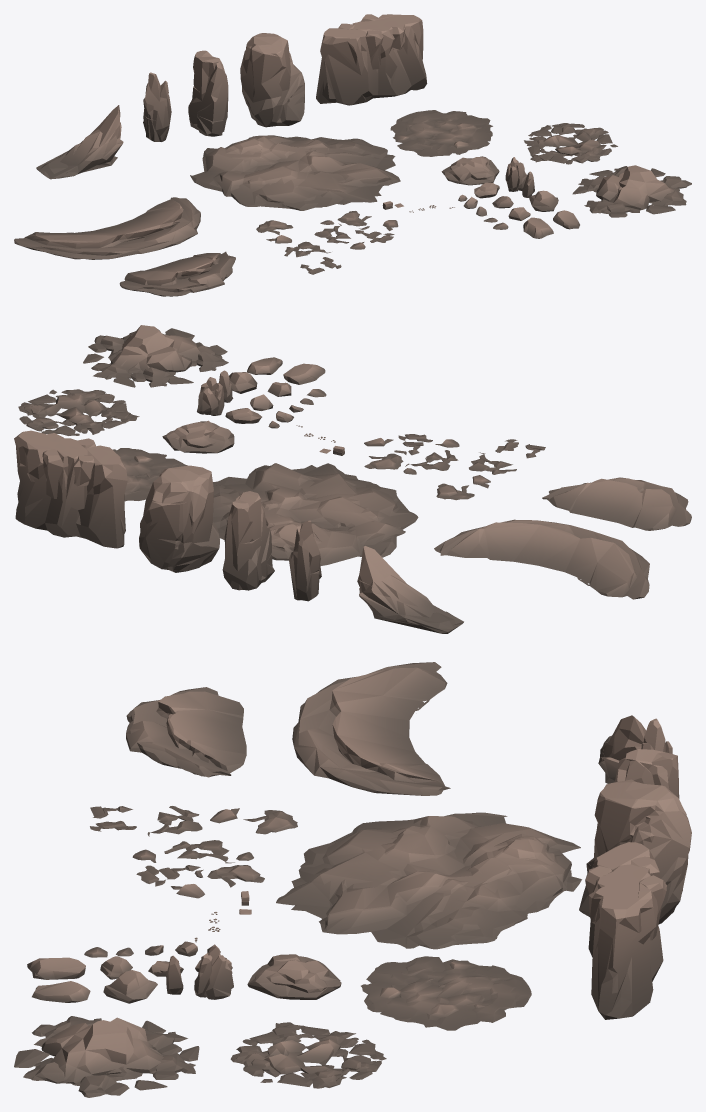
Rendered from LowPolyRocks_Brown.fbx.
3 views of the same model, one above another, from view 1: azimuth 30°, elevation 25°; view 2: azimuth 150°, elevation 25°; view 3: azimuth 270°, elevation 25° (orthographic). The views are drawn at different scales.
Parts seen in each view (by area): view 1: RockFoundation_Brown, Cliff_05_Brown, RockWaveFormation_02_Brown, Cliff_04_Brown, RockFormation_02_Brown, RockFoundation_02_Brown, RockWaveFormation_01_Brown, Cliff_03_Brown, Cliff_01_Brown, RockFormation_03_Brown, Cliff_02_Brown, RockFormation_01_Brown (+4 smaller); view 2: RockFoundation_Brown, Cliff_05_Brown, RockWaveFormation_02_Brown, Cliff_04_Brown, RockFormation_02_Brown, RockWaveFormation_01_Brown, Cliff_01_Brown, Cliff_03_Brown, RockFormation_03_Brown, Cliff_02_Brown, RockFoundation_02_Brown, RockFormation_01_Brown (+6 smaller); view 3: RockFoundation_Brown, RockWaveFormation_02_Brown, Cliff_05_Brown, RockFormation_02_Brown, RockFoundation_02_Brown, RockWaveFormation_01_Brown, Cliff_04_Brown, RockFormation_03_Brown, RockFormation_01_Brown, RockBuried_06_Brown, Cliff_03_Brown, Cliff_01_Brown (+7 smaller).
Part boxes in pixels (x1,y1,x2,y2): RockFoundation_Brown: [190, 135, 400, 210]; Cliff_05_Brown: [316, 14, 427, 105]; RockWaveFormation_02_Brown: [14, 197, 200, 259]; Cliff_04_Brown: [240, 33, 304, 127]; RockFormation_02_Brown: [572, 165, 691, 217]; RockFoundation_02_Brown: [390, 110, 492, 156]; RockWaveFormation_01_Brown: [119, 251, 235, 296]; Cliff_03_Brown: [188, 50, 228, 136]; Cliff_01_Brown: [36, 105, 123, 179]; RockFormation_03_Brown: [524, 123, 617, 164]; Cliff_02_Brown: [143, 72, 171, 141]; RockFormation_01_Brown: [441, 156, 499, 185]; RockFoundation_Brown: [212, 463, 418, 565]; Cliff_05_Brown: [14, 430, 127, 548]; RockWaveFormation_02_Brown: [434, 519, 649, 599]; Cliff_04_Brown: [139, 465, 219, 572]; RockFormation_02_Brown: [83, 325, 228, 387]; RockWaveFormation_01_Brown: [542, 477, 691, 530]; Cliff_01_Brown: [357, 546, 463, 633]; Cliff_03_Brown: [222, 491, 274, 590]; RockFormation_03_Brown: [18, 389, 139, 435]; Cliff_02_Brown: [289, 520, 321, 601]; RockFoundation_02_Brown: [113, 448, 187, 501]; RockFormation_01_Brown: [162, 420, 234, 453]; RockFoundation_Brown: [276, 812, 581, 949]; RockWaveFormation_02_Brown: [292, 662, 450, 795]; Cliff_05_Brown: [585, 842, 666, 1019]; RockFormation_02_Brown: [14, 1016, 199, 1097]; RockFoundation_02_Brown: [361, 956, 531, 1030]; RockWaveFormation_01_Brown: [126, 687, 246, 777]; Cliff_04_Brown: [579, 779, 691, 924]; RockFormation_03_Brown: [230, 1022, 386, 1088]; RockFormation_01_Brown: [247, 954, 341, 999]; RockBuried_06_Brown: [132, 840, 264, 898]; Cliff_03_Brown: [614, 749, 679, 798]; Cliff_01_Brown: [598, 715, 646, 783].
Bounding box in the file's own units: 8663 × 1135 × 5703.
